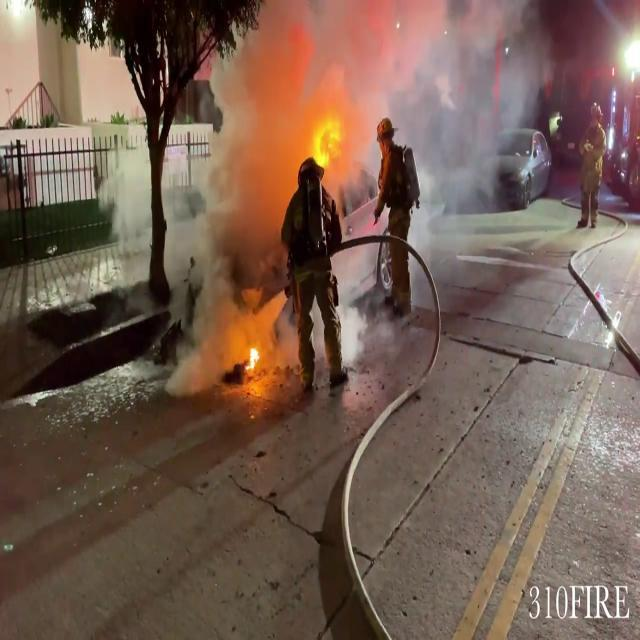Fire: (307, 96, 349, 187), (237, 336, 265, 382)
Smoke: (181, 0, 623, 230)
